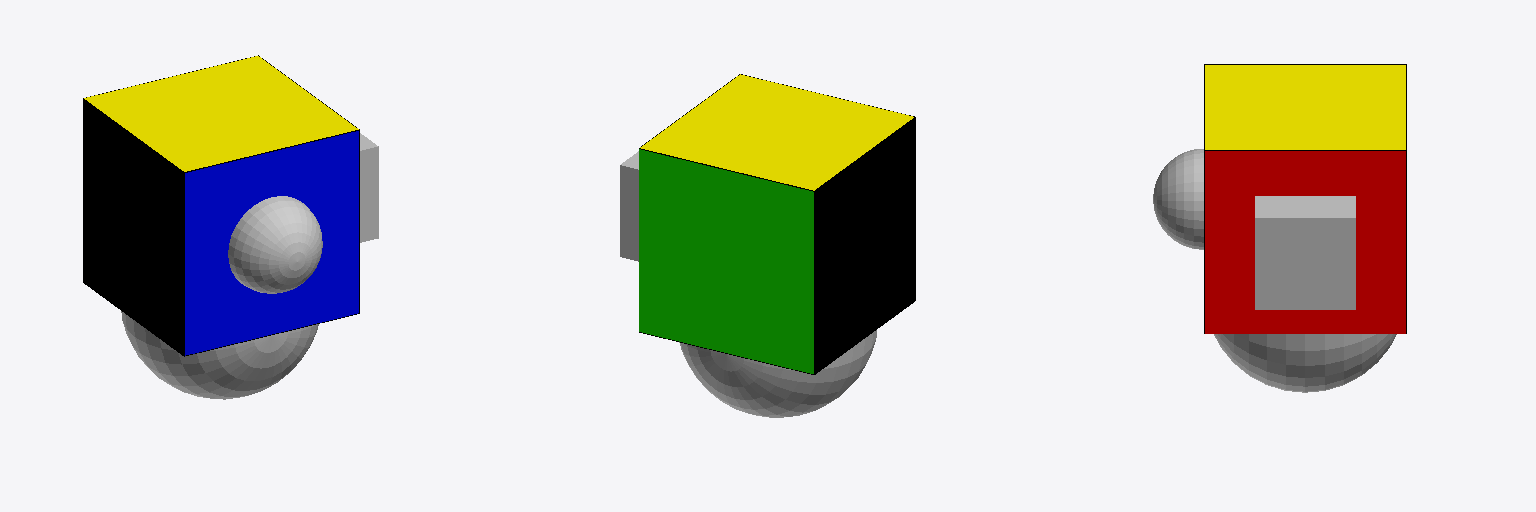
The picture shows the model from 3 angles: view 1: azimuth 30°, elevation 25°; view 2: azimuth 150°, elevation 25°; view 3: azimuth 270°, elevation 25°; orthographic projection.
Parts seen in each view (by area): view 1: Cube_Cube.004, Sphere, Sphere.001, Cube.001_Cube.005; view 2: Cube_Cube.004, Sphere, Cube.001_Cube.005; view 3: Cube_Cube.004, Cube.001_Cube.005, Sphere, Sphere.001.
Boxes of the visible parts, x1,y1,x2,y2 form: Cube_Cube.004: [83, 55, 359, 356]; Sphere: [121, 311, 318, 399]; Sphere.001: [228, 196, 322, 293]; Cube.001_Cube.005: [360, 133, 378, 242]; Cube_Cube.004: [639, 74, 915, 374]; Sphere: [679, 330, 876, 417]; Cube.001_Cube.005: [620, 151, 638, 261]; Cube_Cube.004: [1204, 64, 1406, 333]; Cube.001_Cube.005: [1255, 196, 1355, 309]; Sphere: [1214, 334, 1396, 392]; Sphere.001: [1153, 149, 1203, 249].
Bounding box in the file's own units: 2.5 × 3 × 2.5.
2 materials, 1 textured.